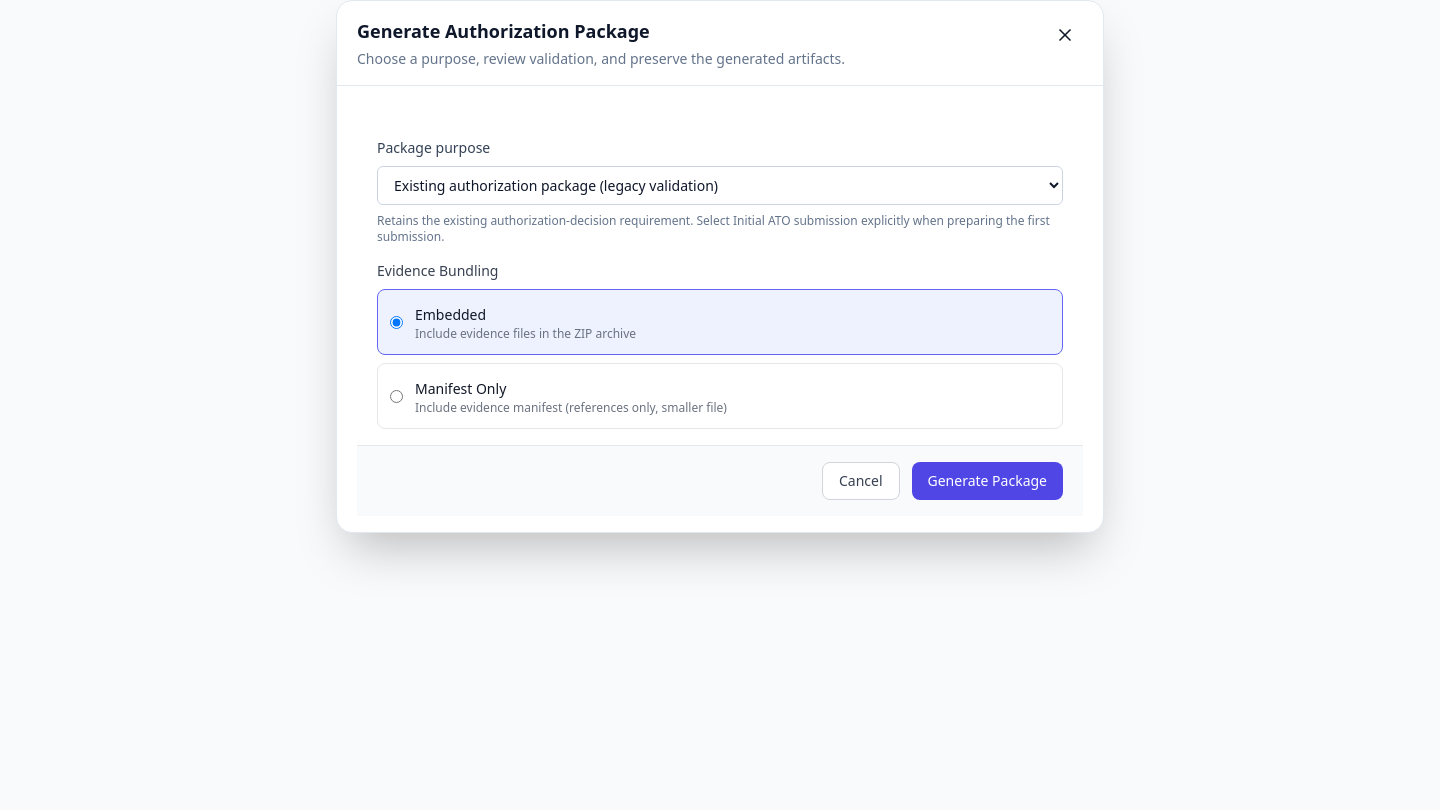
Test: cookie-session progress clients › completes package generation through authorized status polling without a bearer hub
This screenshot has width=1440, height=810.
Click the button "Generate Package" at {"x": 987, "y": 481}, box [912,462,1063,500]
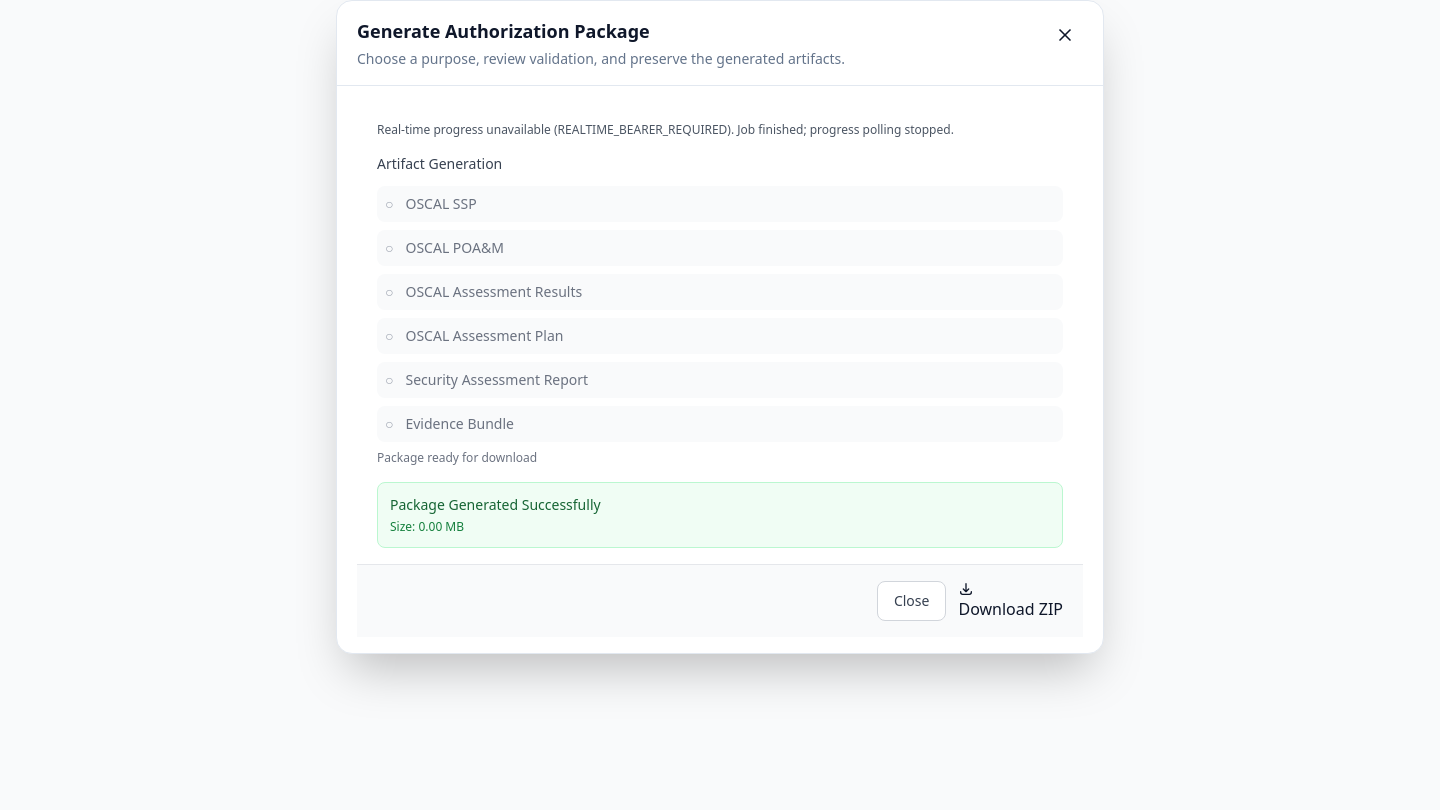
Expected: the text "Package Generated Successfully" is shown, [390,495,601,514]
Expected: the text "REALTIME_BEARER_REQUIRED" is shown, [377,121,954,138]
